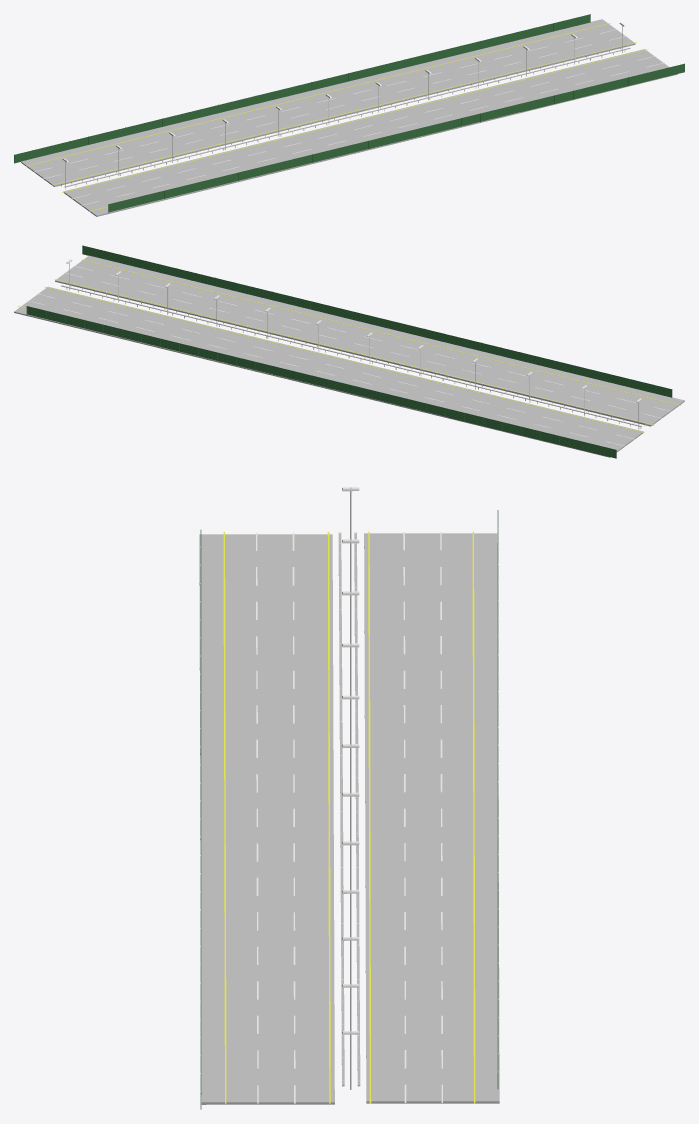
The model's file is Highway.gltf.
The picture shows the model from 3 angles, top to bottom: view 1: azimuth 30°, elevation 25°; view 2: azimuth 150°, elevation 25°; view 3: azimuth 270°, elevation 25°; orthographic projection. The views are drawn at different scales.
Parts seen in each view (by area): view 1: node-0; view 2: node-0; view 3: node-0.
Boxes of the visible parts, <box> form: node-0: <box>14,14,684,216</box>; node-0: <box>14,245,684,458</box>; node-0: <box>199,487,499,1109</box>.
Size of the model in its own units: 4048 by 188 by 883.
